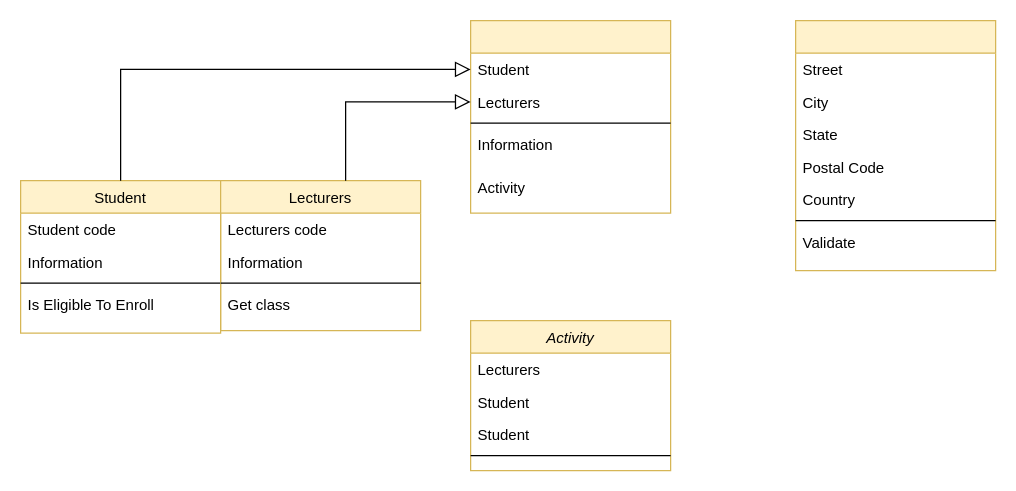
The diagram is 1016 pixels wide and 491 high, and some of its shapes have lost their labels. Here are the shapes that lost their labels. From the top down, the box of each, then its label:
(469, 19, 671, 213): Person
(794, 19, 996, 271): Address
